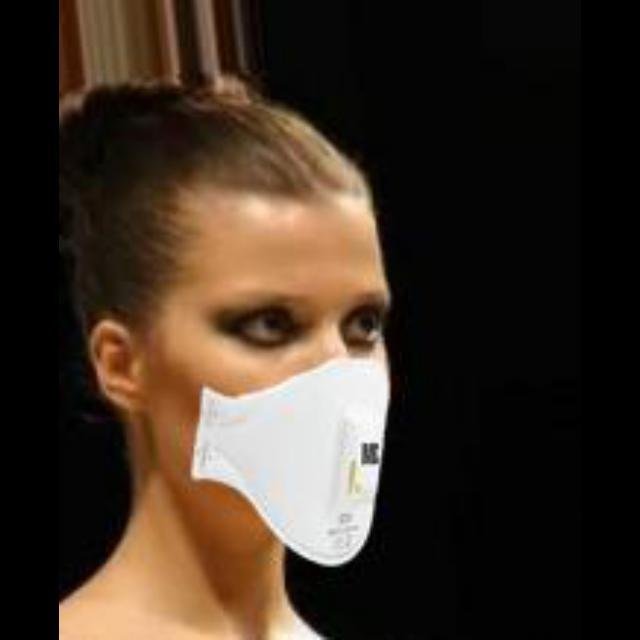suspicion: (123, 162, 440, 560)
